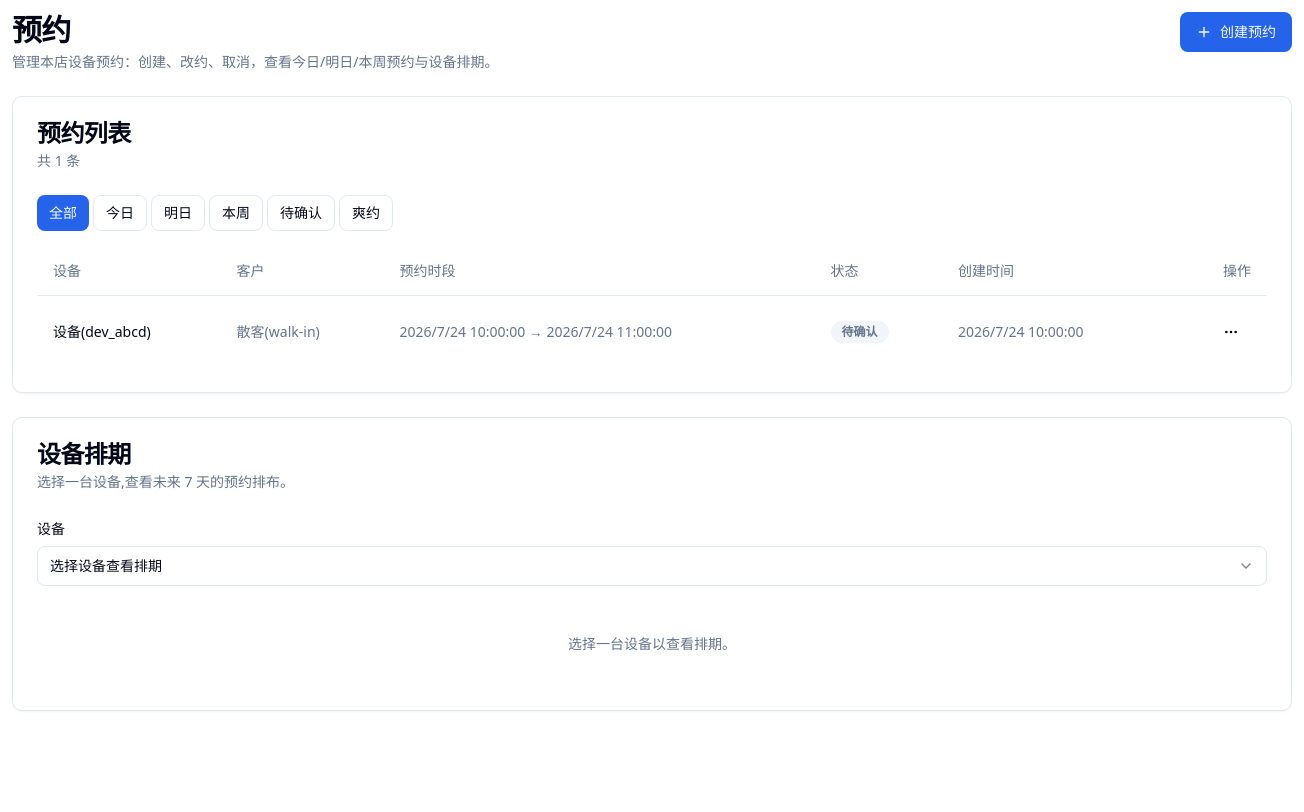
StoreView — device-poweron lifecycle buttons › owner 在 pending 行也可改约/取消(MUTABLE_STATUS 守 pending-only 不被动作按钮破坏)
Click the 8th button: (1231,332) x1=1211 y1=312 x2=1251 y2=352
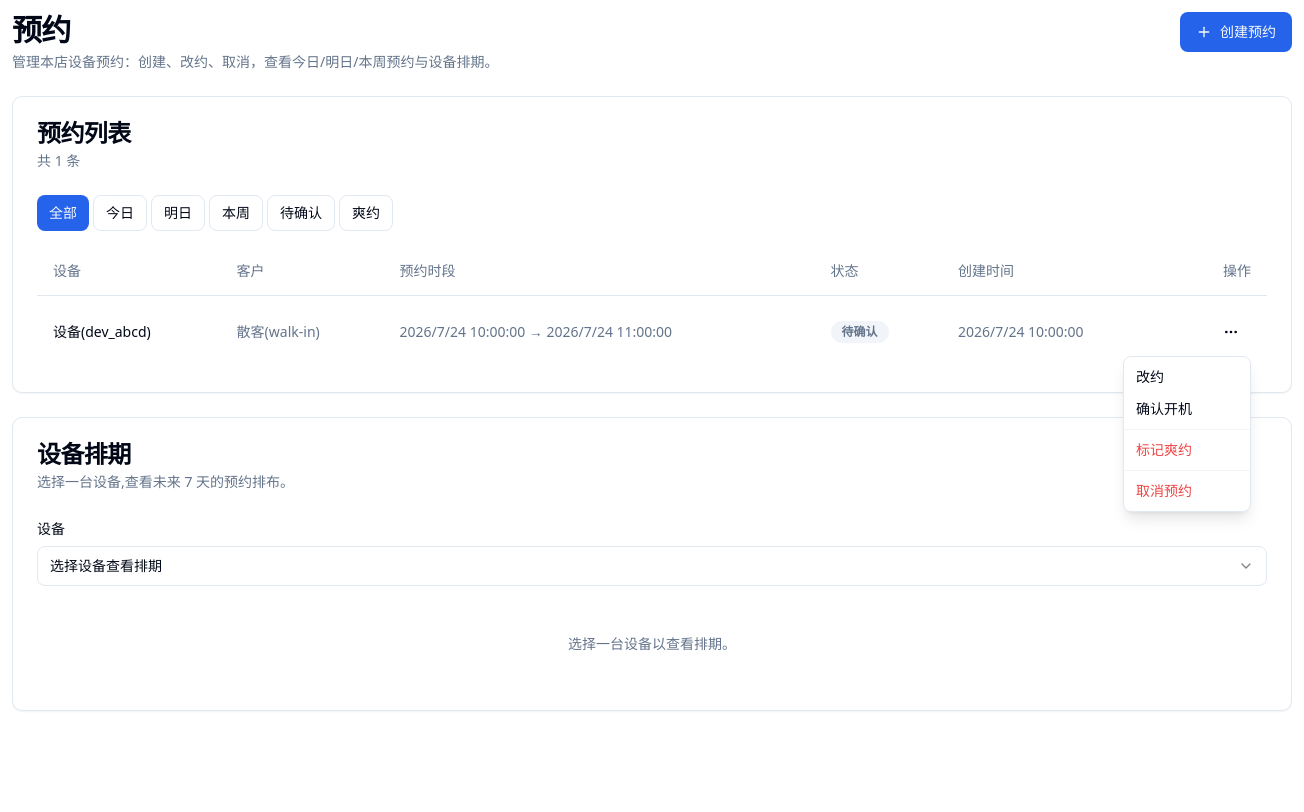
Expected: the menu item "确认开机" is shown, x1=1136 y1=399 x2=1192 y2=418
Expected: the menu item "标记爽约" is shown, x1=1136 y1=440 x2=1192 y2=459
Expected: the menu item "改约" is shown, x1=1136 y1=367 x2=1164 y2=386
